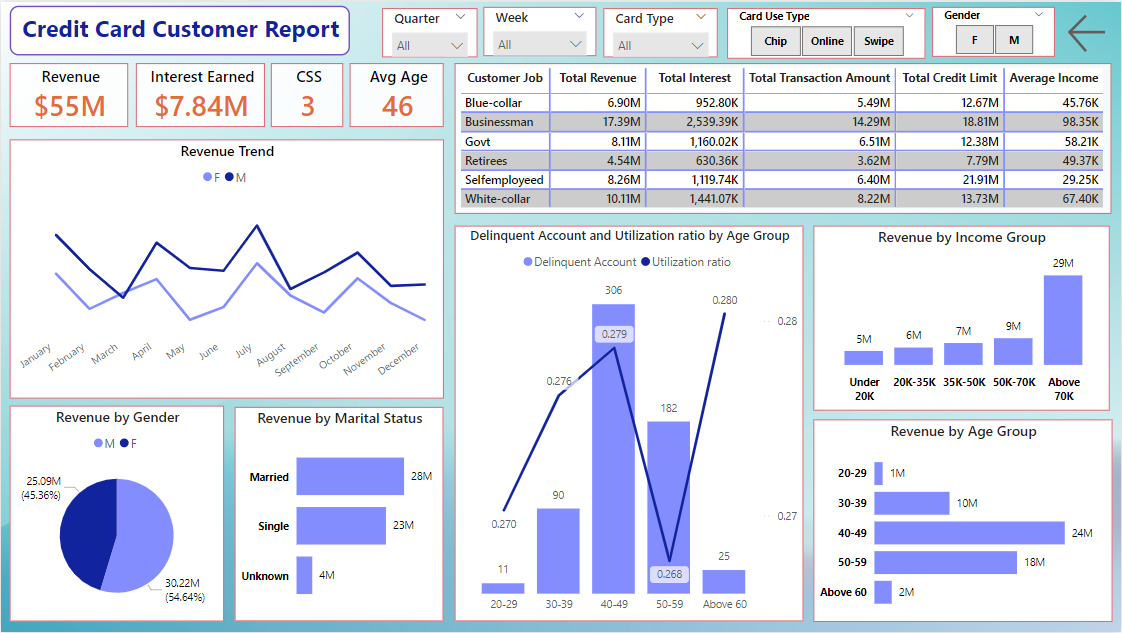

This screenshot's page, from the dashboard's own definition file:
{"tool":"powerbi","page":{"name":"Customer","canvas":[1280,720],"ordinal":1},"visuals":[{"type":"textbox","box":[10,4.3,388.6,57.1],"z":0},{"type":"lineChart","title":"Revenue Trend ","fields":{"Category":["credit_card.Week_Start_Date.Variation.Date Hierarchy.Year","credit_card.Week_Start_Date.Variation.Date Hierarchy.Quarter","credit_card.Week_Start_Date.Variation.Date Hierarchy.Month","credit_card.Week_Start_Date.Variation.Date Hierarchy.Day"],"Series":["customer.Gender"],"Y":["Base Measures.Total Revenue"]},"box":[10,157.1,495.7,295.7],"z":1000},{"type":"barChart","title":"Revenue by Marital Status","fields":{"Category":["customer.Marital_Status"],"Y":["Base Measures.Total Revenue"]},"box":[267.8,462.3,238.5,245.1],"z":2000},{"type":"barChart","title":"Revenue by Age Group","fields":{"Y":["Base Measures.Total Revenue"],"Category":["customer.Age Group"]},"box":[928.6,477.1,341.4,231.4],"z":3000},{"type":"columnChart","title":"Revenue by Income Group","fields":{"Category":["customer.Income Group"],"Y":["Base Measures.Total Revenue"]},"box":[928,255.7,338,211.4],"z":4000},{"type":"card","title":"Revenue","fields":{"Values":["Base Measures.Total Revenue"]},"box":[10,70,135,72.5],"z":5000},{"type":"card","title":"Interest Earned","fields":{"Values":["Base Measures.Total Interest"]},"box":[153.8,70,147.5,72.5],"z":6000},{"type":"card","title":"CSS","fields":{"Values":["Base Measures.CSS"]},"box":[309,70,82.5,72.5],"z":7000},{"type":"card","title":"Avg Age","fields":{"Values":["Base Measures.Average Age"]},"box":[398.8,70,107.5,72.5],"z":8000},{"type":"tableEx","fields":{"Values":["customer.Customer_Job","Base Measures.Total Revenue","Base Measures.Total Interest","Base Measures.Total Transaction Amount","Base Measures.Total Credit Limit","Base Measures.Average Income"]},"box":[518.2,70.6,750,171.9],"z":9000},{"type":"lineStackedColumnComboChart","fields":{"Category":["customer.Age Group"],"Y":["Base Measures.Delinquent Account"],"Y2":["Base Measures.Utilization ratio"]},"box":[518.2,255.8,398.3,451.6],"z":10000},{"type":"pieChart","title":"Revenue by Gender","fields":{"Category":["customer.Gender"],"Y":["Base Measures.Total Revenue"]},"box":[9.3,461,245.1,246.5],"z":11000},{"type":"slicer","fields":{"Values":["credit_card.Week_Num"]},"box":[551.4,5.7,128.6,55.7],"z":12000},{"type":"slicer","fields":{"Values":["credit_card.Qtr"]},"box":[435.7,7.1,108.6,55.7],"z":13000},{"type":"slicer","fields":{"Values":["credit_card.Card Category"]},"box":[688,6.7,130.6,56],"z":14000},{"type":"slicer","fields":{"Values":["credit_card.Use_Chip"]},"box":[830,6.7,226.5,57.3],"z":15000},{"type":"slicer","fields":{"Values":["customer.Gender"]},"box":[1064,5.7,140,57.1],"z":16000},{"type":"actionButton","box":[1214.3,7.1,54.3,57.1],"z":17000}]}

Visuals, with their boxes in screenshot pixels (x1, y1, x2, y2), scaled from the page's 1280x720 canvas onto the 1122x633 screenshot:
textbox: locate(9, 4, 349, 54)
"Revenue Trend " lineChart: locate(9, 138, 443, 398)
"Revenue by Marital Status" barChart: locate(235, 406, 444, 622)
"Revenue by Age Group" barChart: locate(814, 419, 1113, 623)
"Revenue by Income Group" columnChart: locate(813, 225, 1110, 411)
"Revenue" card: locate(9, 62, 127, 125)
"Interest Earned" card: locate(135, 62, 264, 125)
"CSS" card: locate(271, 62, 343, 125)
"Avg Age" card: locate(350, 62, 444, 125)
tableEx - customer.Customer_Job x Base Measures.Total Revenue: locate(454, 62, 1112, 213)
lineStackedColumnComboChart - customer.Age Group x Base Measures.Delinquent Account: locate(454, 225, 803, 622)
"Revenue by Gender" pieChart: locate(8, 405, 223, 622)
slicer - credit_card.Week_Num: locate(483, 5, 596, 54)
slicer - credit_card.Qtr: locate(382, 6, 477, 55)
slicer - credit_card.Card Category: locate(603, 6, 718, 55)
slicer - credit_card.Use_Chip: locate(728, 6, 926, 56)
slicer - customer.Gender: locate(933, 5, 1055, 55)
actionButton: locate(1064, 6, 1112, 56)
